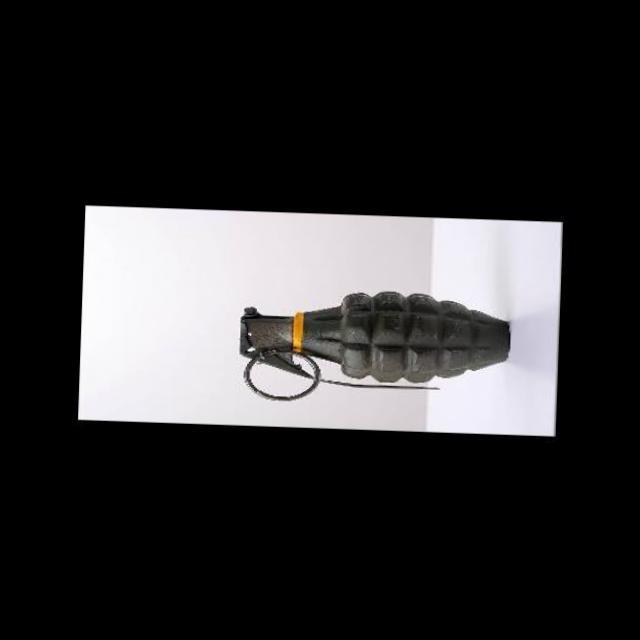grenade: (219, 270, 545, 414)
